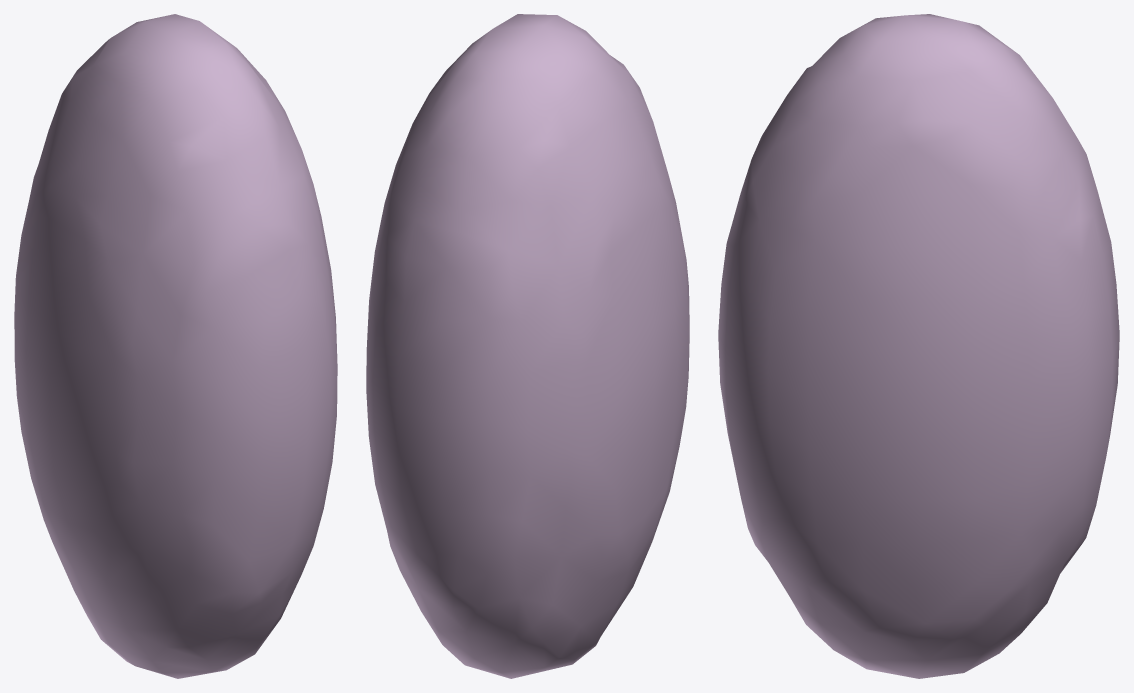
The model's file is organ-spleen.glb.
3 renders of one model, left to right at view 1: azimuth 30°, elevation 25°; view 2: azimuth 150°, elevation 25°; view 3: azimuth 270°, elevation 25°, orthographic.
Parts seen in each view (by area): view 1: world; view 2: world; view 3: world.
Part boxes in pixels (<box>): world: <box>14,14,337,678</box>; world: <box>366,14,689,678</box>; world: <box>718,14,1119,678</box>.
Size of the model in its own units: 0.0658 by 0.1578 by 0.0884.
